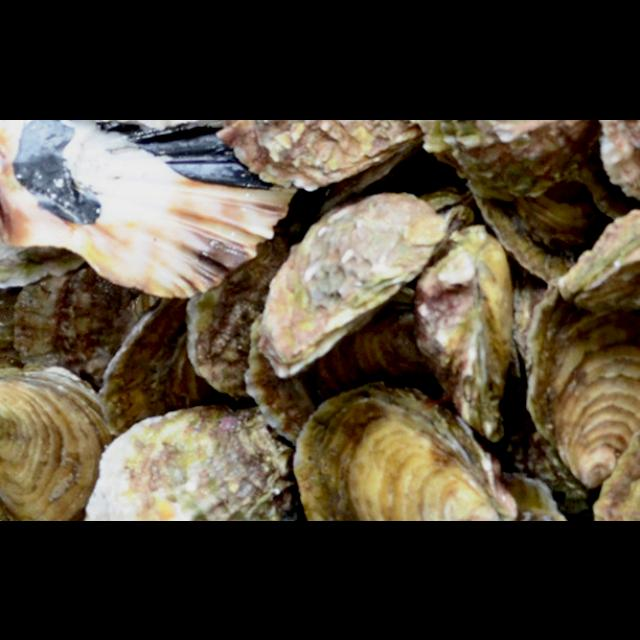Oyster-Closed: (0, 119, 294, 295), (262, 191, 448, 373), (294, 380, 522, 521), (524, 209, 640, 481), (242, 293, 446, 442), (187, 195, 318, 399), (81, 403, 300, 521), (416, 227, 514, 443), (100, 295, 237, 433), (0, 365, 110, 521), (13, 267, 156, 387), (221, 119, 424, 192), (470, 177, 611, 282), (413, 119, 598, 199), (503, 417, 595, 520), (507, 259, 552, 394), (595, 441, 640, 521), (0, 241, 80, 285), (505, 472, 565, 521), (420, 187, 472, 239)
Oyster-Open: (574, 119, 640, 216)
